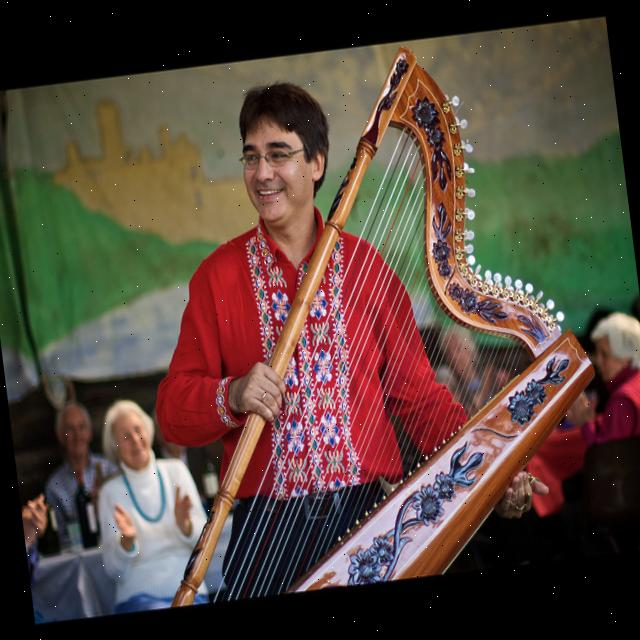harp: (103, 27, 622, 610)
